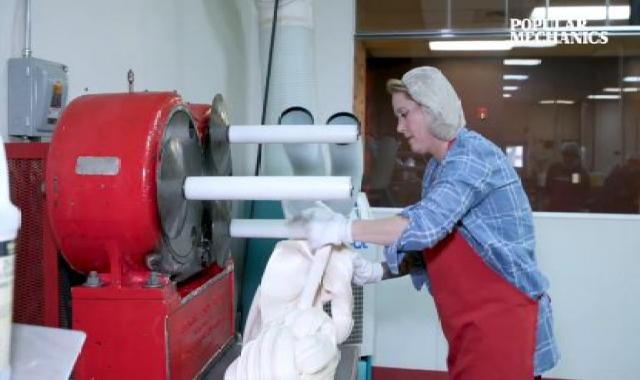hairnet: (388, 65, 467, 147)
